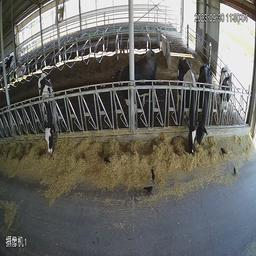cow: (106, 36, 163, 135), (32, 64, 63, 165), (176, 56, 204, 164), (197, 59, 219, 139), (218, 58, 238, 125)
